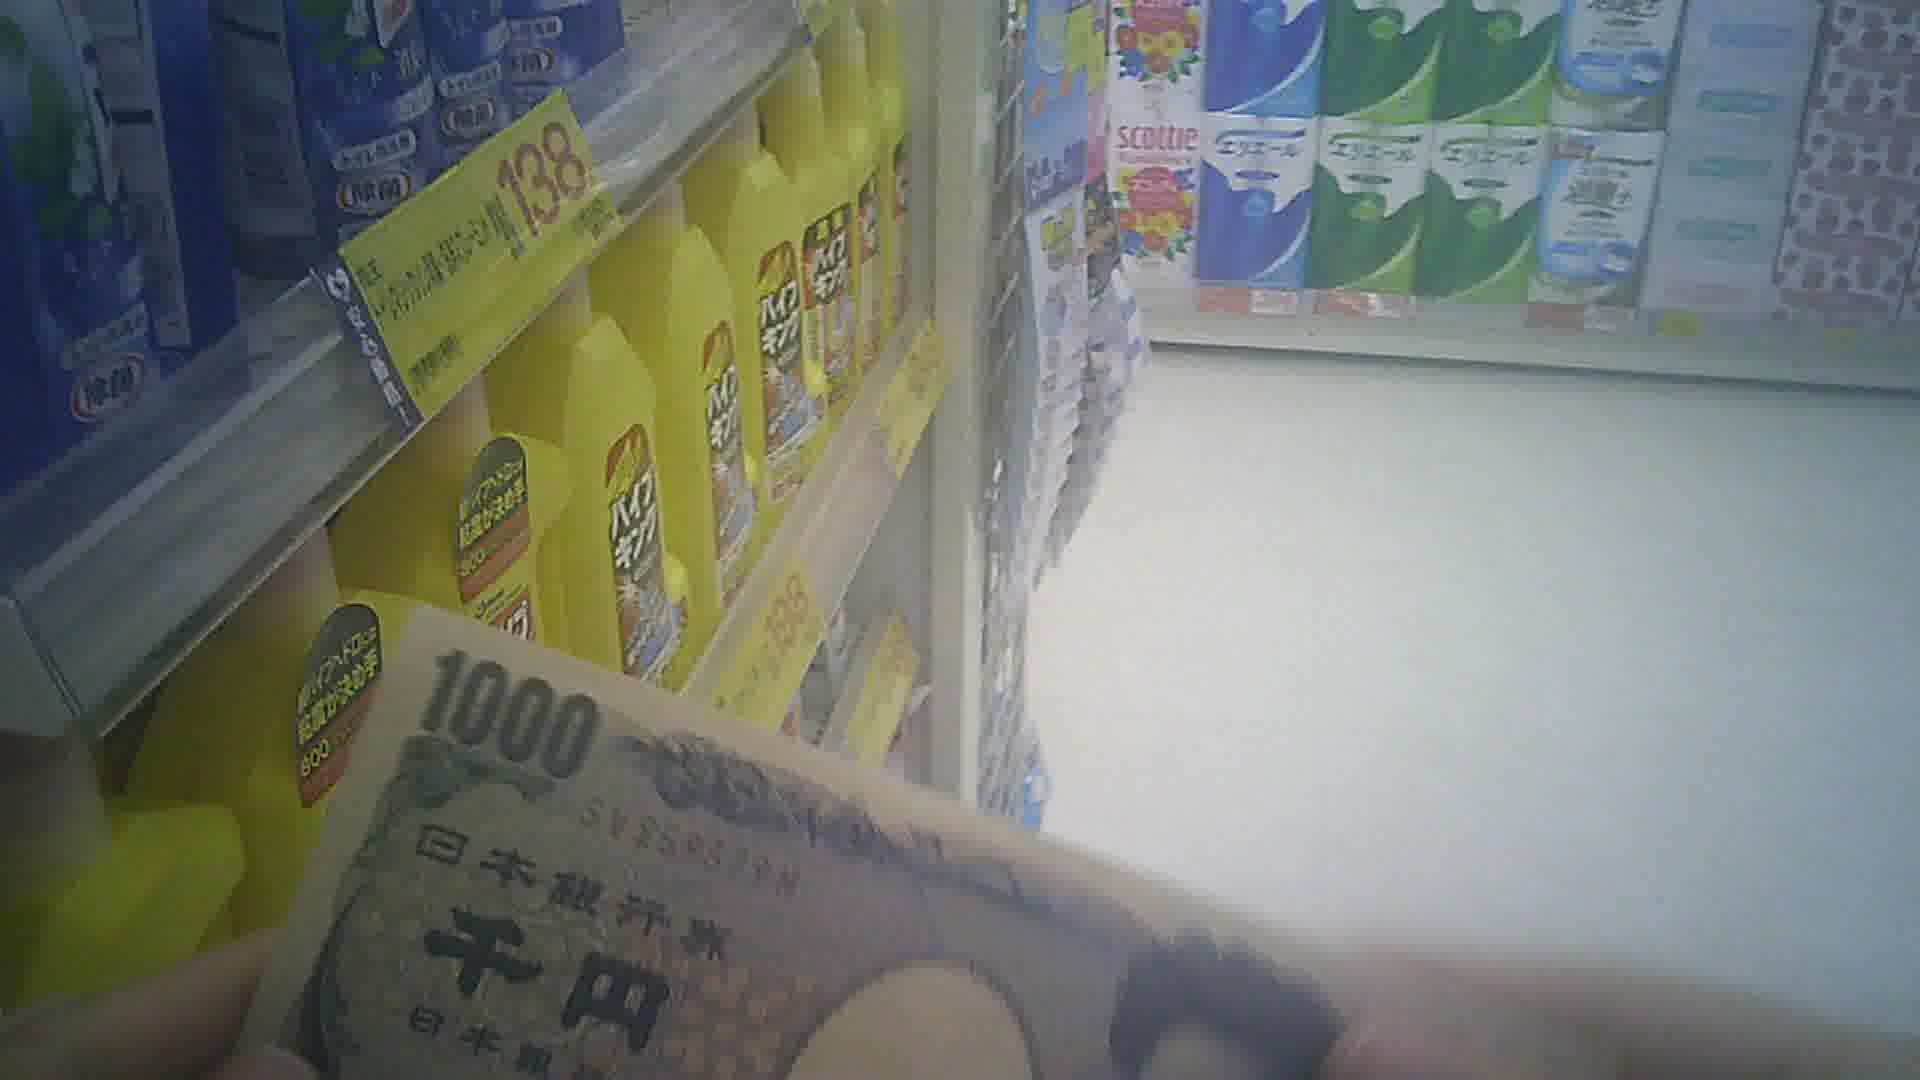1,000 Yen: (252, 585, 1353, 1079)
